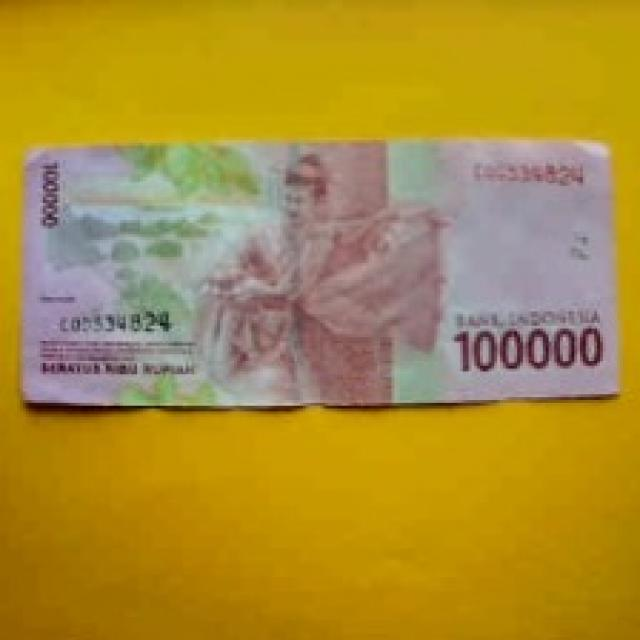lima puluh ribu rupiah: (13, 107, 640, 435)
